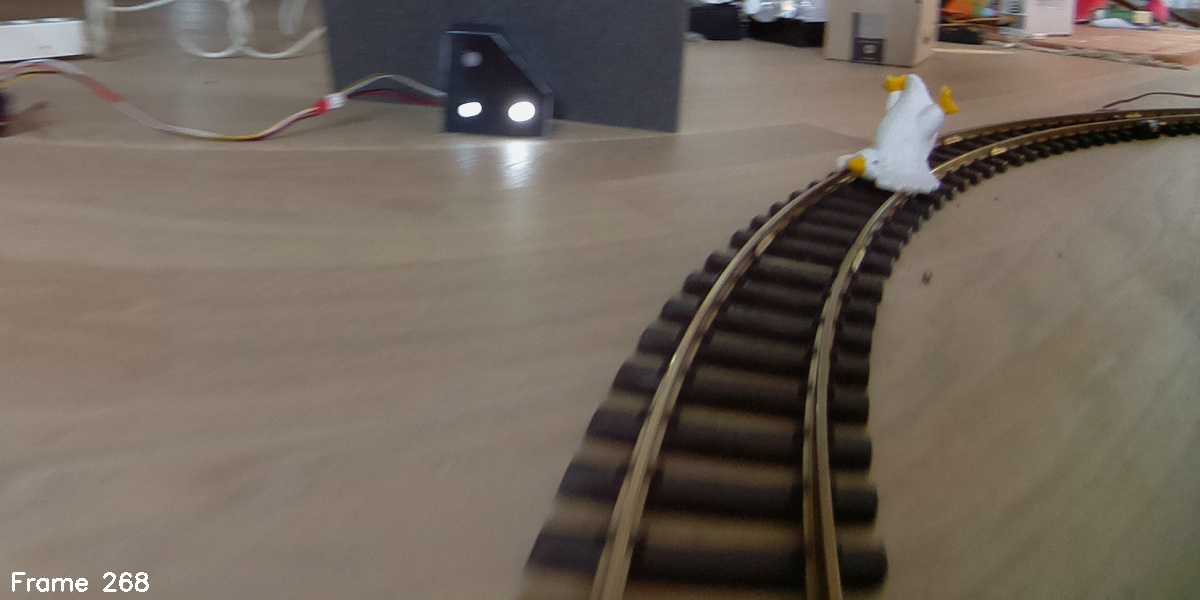Ente: (834, 73, 962, 201)
Halt: (449, 27, 553, 139)
